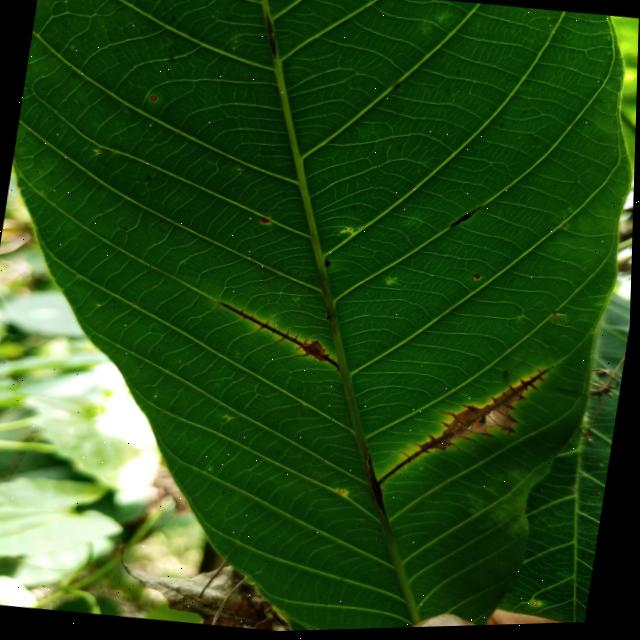Colletotrichum: (318, 474, 322, 477)
Corynespora: (378, 353, 552, 505), (210, 299, 351, 374), (360, 451, 401, 521), (450, 202, 486, 234)
